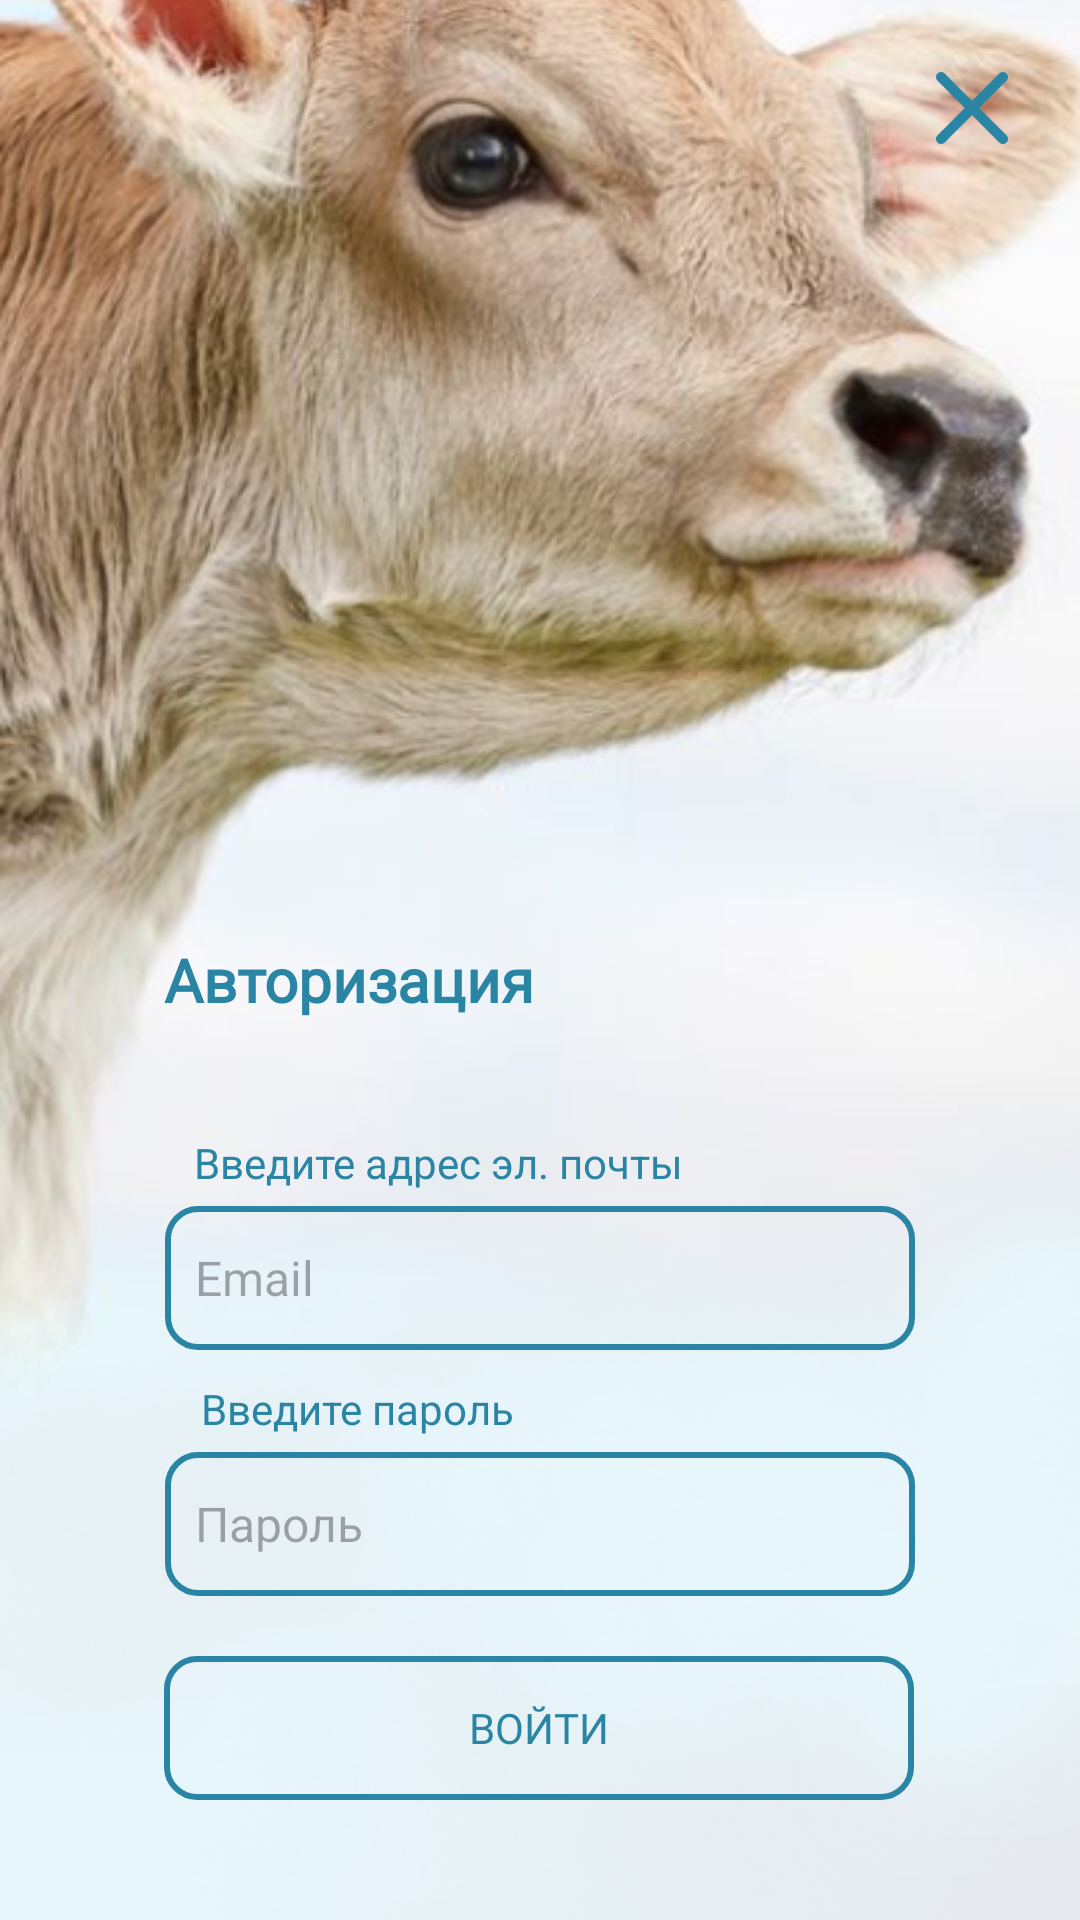

Point at icon controls on the screen. Image size 1080w x 1920h, points as (x,y).
close: (972,108)
